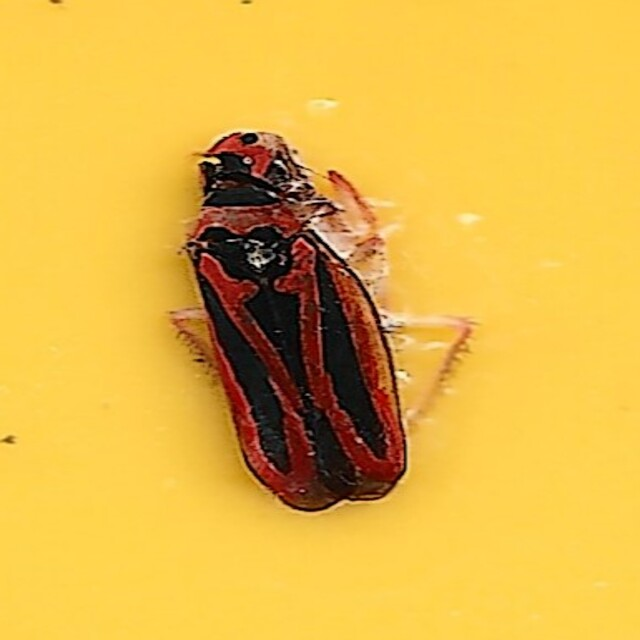Hemiptera: (166, 122, 474, 518)
